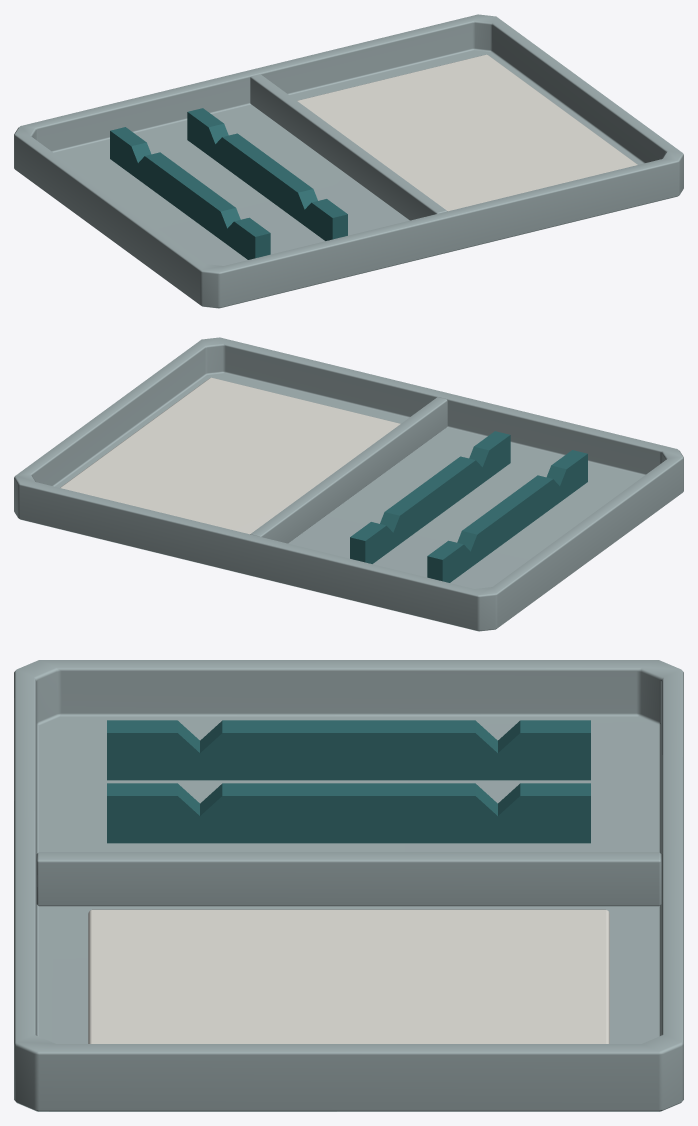
The model's file is VLAB_drying_station.fbx.
The picture shows the model from 3 angles, top to bottom: view 1: azimuth 30°, elevation 25°; view 2: azimuth 150°, elevation 25°; view 3: azimuth 270°, elevation 25°; orthographic projection. The views are drawn at different scales.
Visible parts, largest first — view 1: VLAB_drying_station_Tray_VIS, VLAB_drying_station_DryPad_VIS, VLAB_drying_station_ElectrodeRest_VIS; view 2: VLAB_drying_station_Tray_VIS, VLAB_drying_station_DryPad_VIS, VLAB_drying_station_ElectrodeRest_VIS; view 3: VLAB_drying_station_Tray_VIS, VLAB_drying_station_DryPad_VIS, VLAB_drying_station_ElectrodeRest_VIS.
Boxes of the visible parts, <box> form: VLAB_drying_station_Tray_VIS: <box>14,14,683,308</box>; VLAB_drying_station_DryPad_VIS: <box>297,54,637,211</box>; VLAB_drying_station_ElectrodeRest_VIS: <box>110,108,347,259</box>; VLAB_drying_station_Tray_VIS: <box>14,337,683,631</box>; VLAB_drying_station_DryPad_VIS: <box>60,377,400,534</box>; VLAB_drying_station_ElectrodeRest_VIS: <box>350,431,587,582</box>; VLAB_drying_station_Tray_VIS: <box>14,660,683,1111</box>; VLAB_drying_station_DryPad_VIS: <box>88,909,609,1043</box>; VLAB_drying_station_ElectrodeRest_VIS: <box>107,720,590,843</box>.
Bounding box in the file's own units: 0.25 × 0.018 × 0.18.
